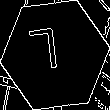L_S: (38, 28, 72, 82)
